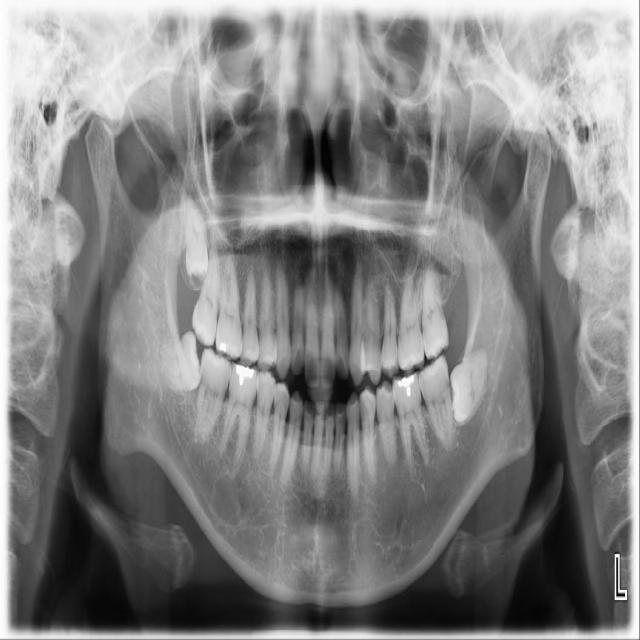Filling: (233, 363, 255, 384), (396, 376, 416, 396), (217, 340, 228, 351)
impacted tooth: (447, 348, 493, 426), (176, 187, 211, 281), (153, 333, 201, 390)
